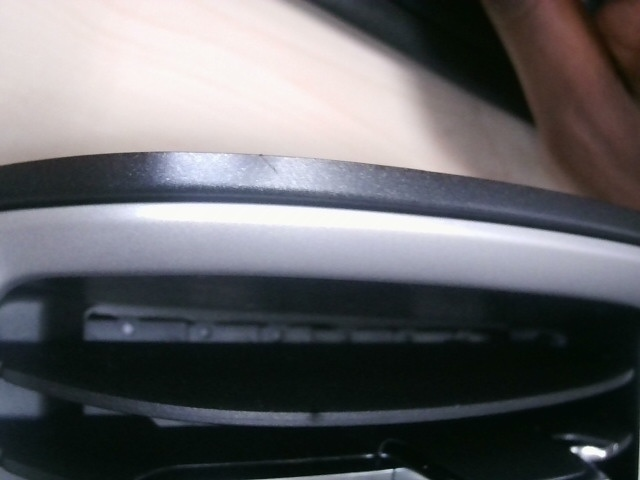NG: (254, 148, 283, 177)
